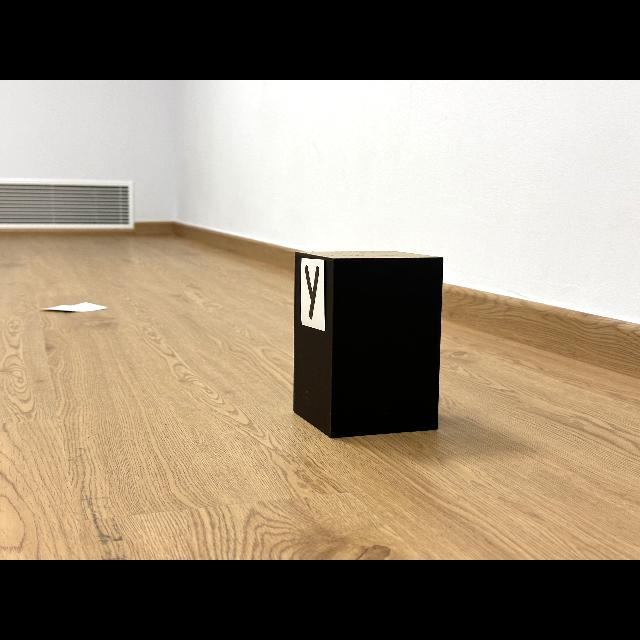Y: (305, 265, 320, 320)
